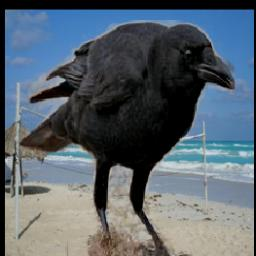Crow: (18, 21, 236, 256)
